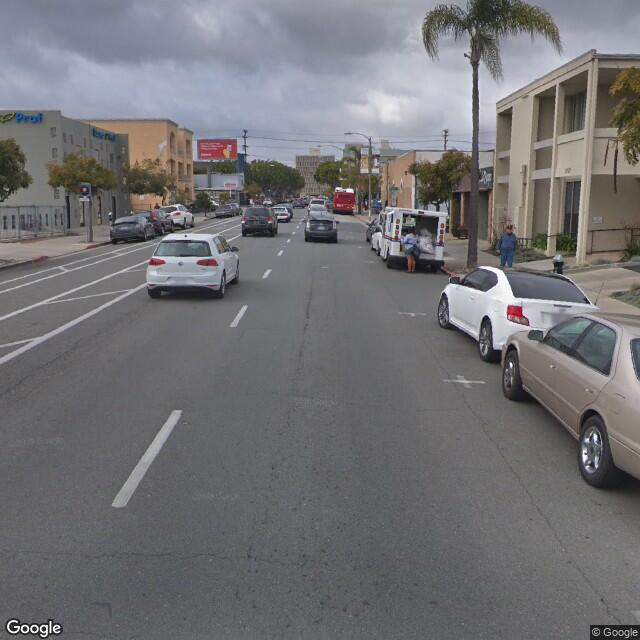road line: (103, 305, 247, 525)
